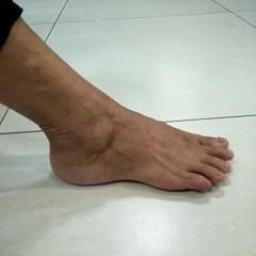Lateral View -Right Foot-: (26, 70, 246, 218)
